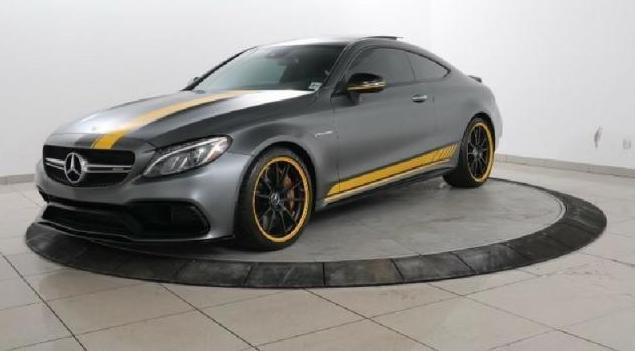C63AMG: (30, 30, 506, 248)
